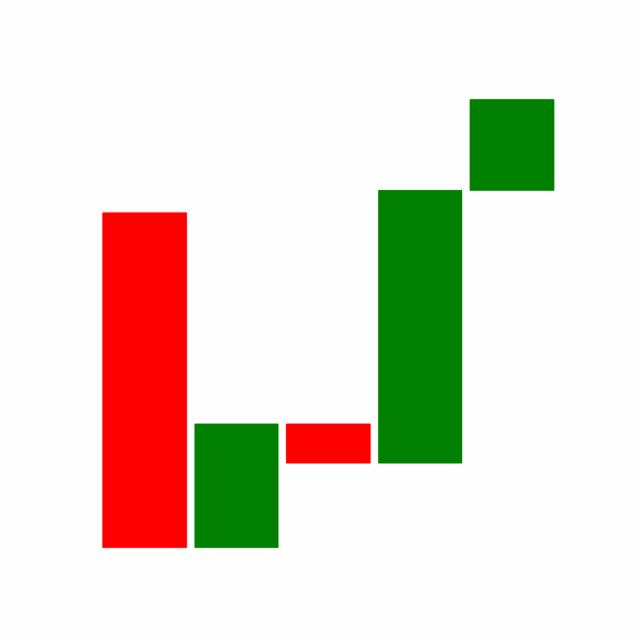Marubozu: (373, 187, 467, 466)
